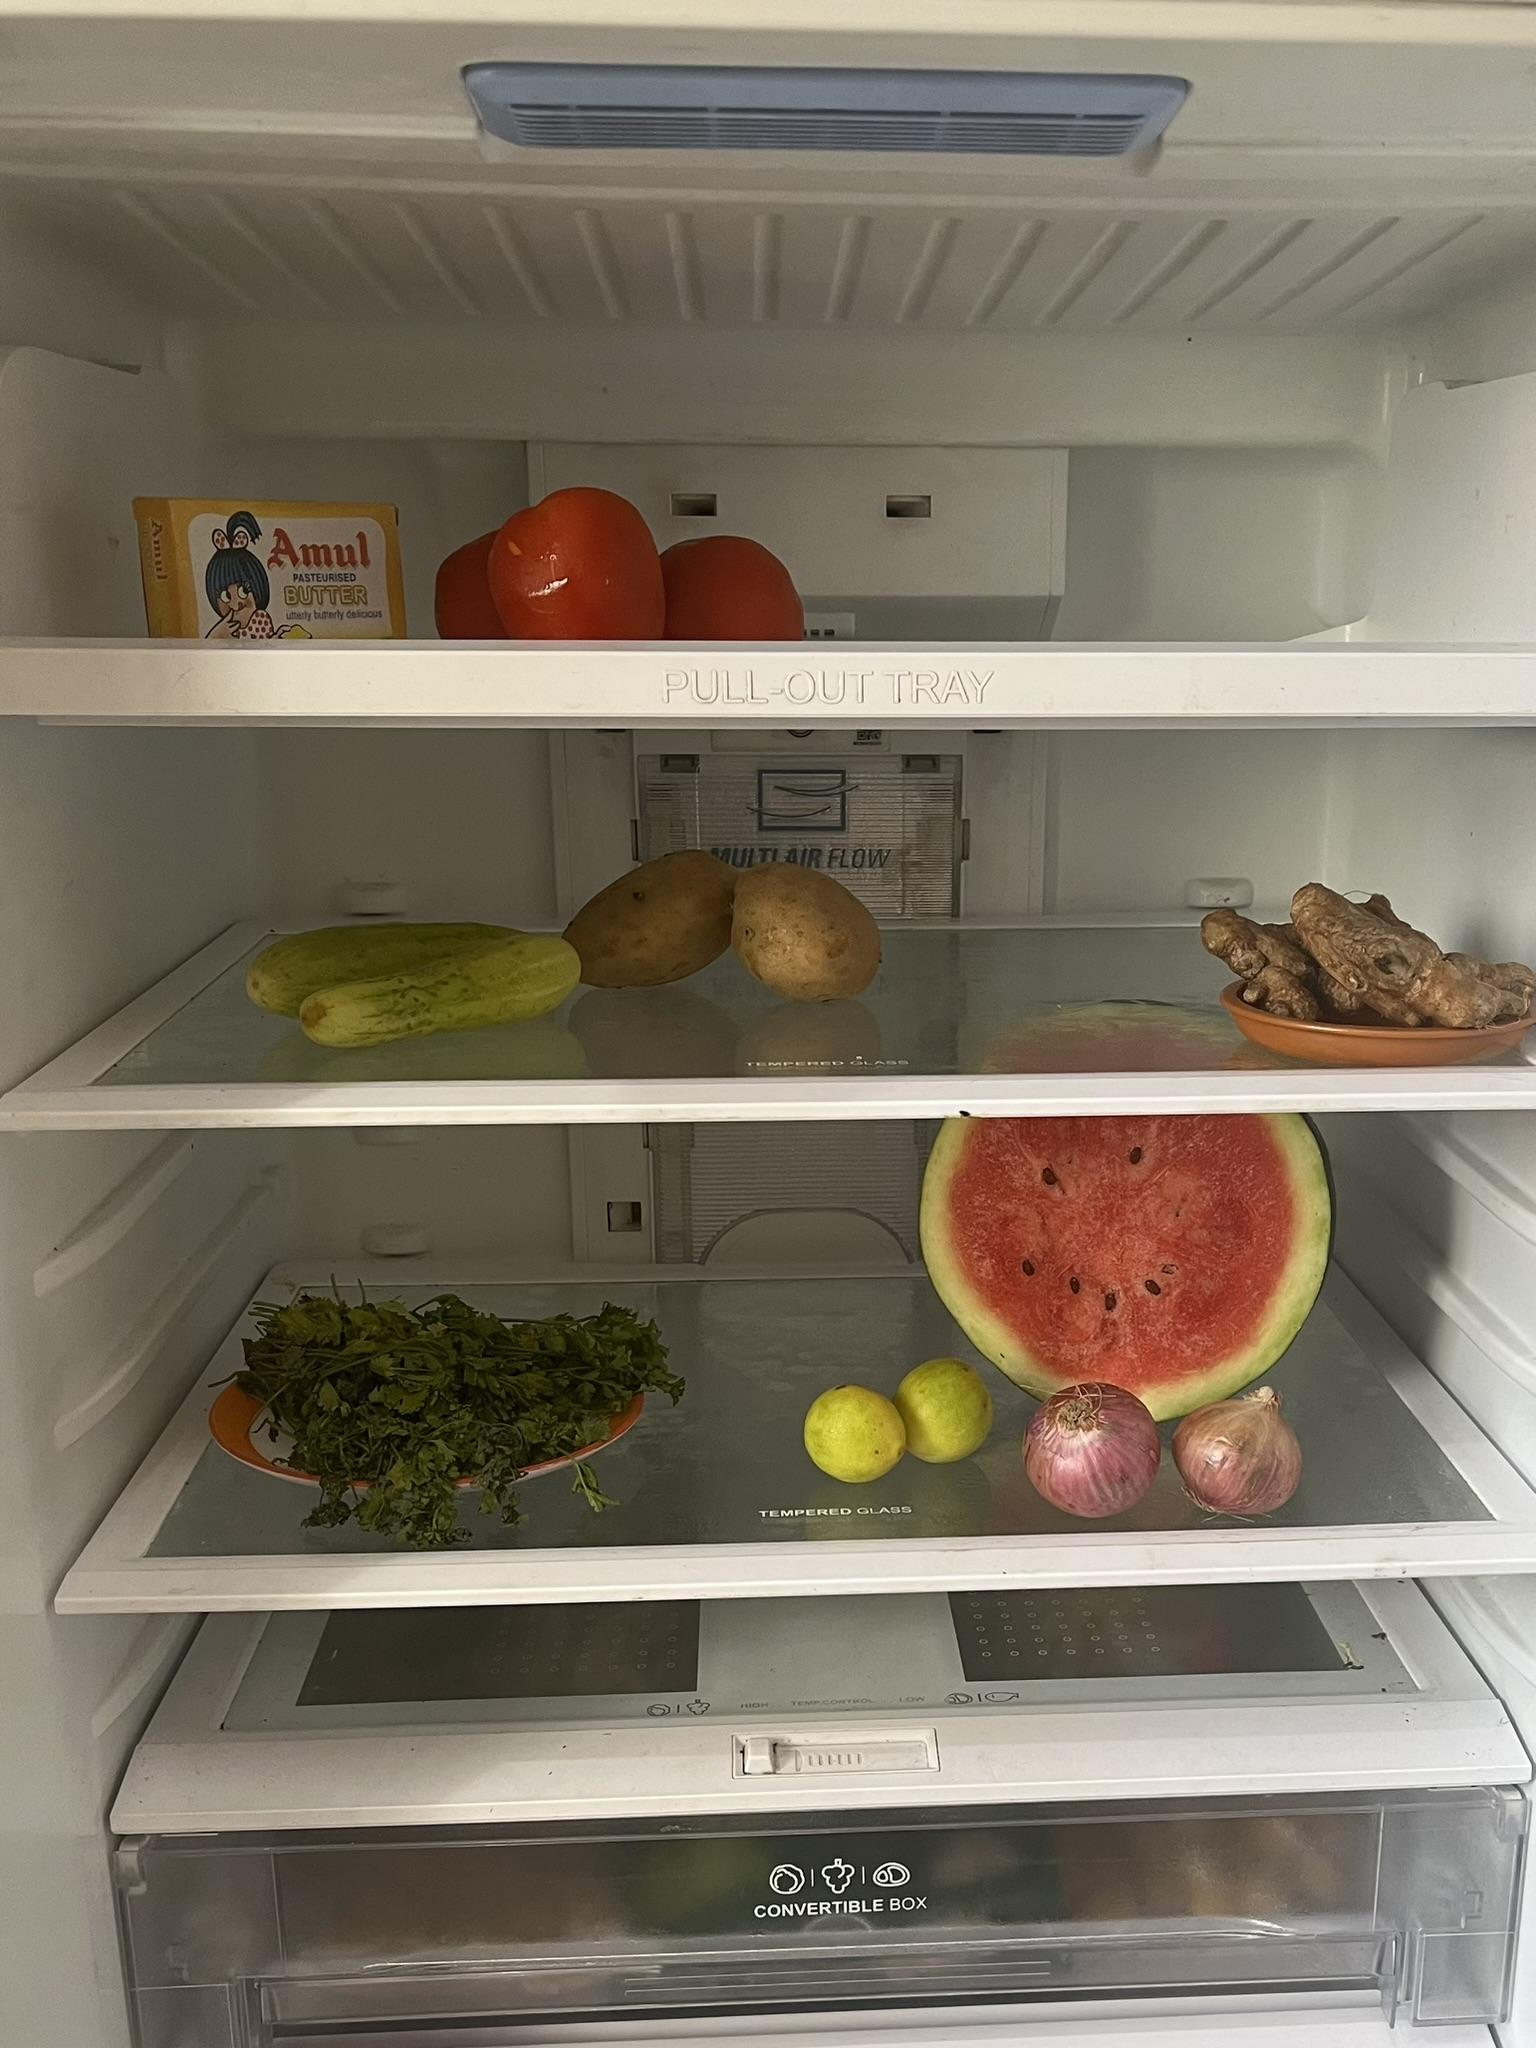butter: (134, 487, 407, 640)
coriander: (234, 1284, 650, 1513)
cucumber: (247, 903, 584, 1043)
ginger: (1204, 884, 1536, 1030)
lemon: (797, 1356, 997, 1477)
onion: (1023, 1380, 1304, 1517)
potato: (557, 850, 887, 993)
tomato: (423, 487, 803, 643)
watermelon: (926, 997, 1336, 1424)
